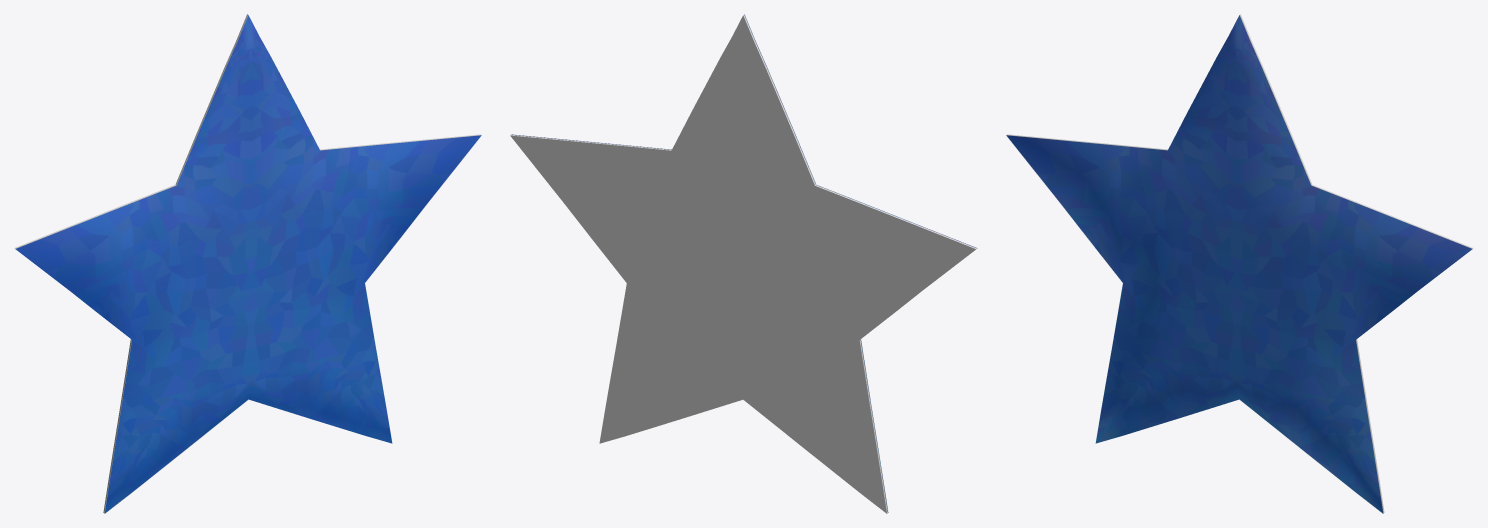
Rendered from hosi_bule_holo.glb.
The picture shows the model from 3 angles, left to right: view 1: azimuth 30°, elevation 25°; view 2: azimuth 150°, elevation 25°; view 3: azimuth 330°, elevation 25°; orthographic projection.
Parts seen in each view (by area): view 1: Plane.001, Plane.002, Plane; view 2: Plane, Plane.001; view 3: Plane.001, Plane.002, Plane.
Boxes of the visible parts, bbox=[...] form: Plane.001: bbox=[15, 15, 481, 513]; Plane.002: bbox=[16, 15, 481, 513]; Plane: bbox=[14, 14, 480, 513]; Plane: bbox=[510, 14, 976, 513]; Plane.001: bbox=[512, 14, 976, 512]; Plane.001: bbox=[1006, 15, 1472, 513]; Plane.002: bbox=[1006, 15, 1471, 513]; Plane: bbox=[1007, 14, 1473, 513].
Size of the model in its own units: 1.95 by 1.85 by 0.0288.
Materials: 2 (1 with a texture image).
